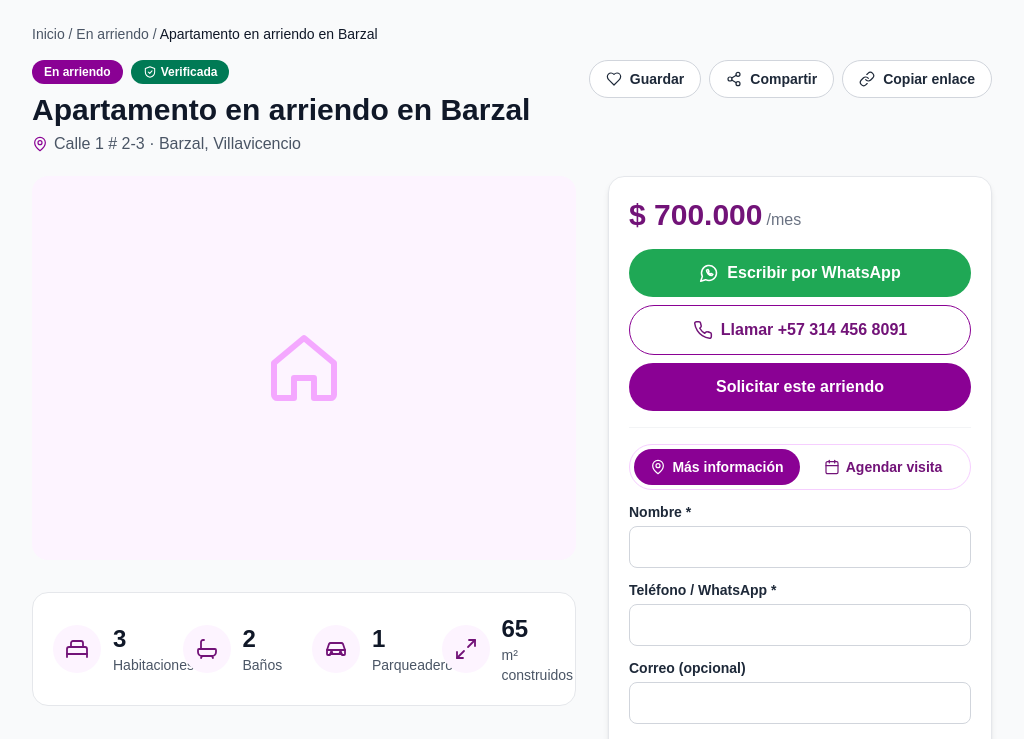
Test: ficha del inmueble › agendar una visita pide el dia
The image size is (1024, 739).
Click the tab "Agendar visita" at (883, 467), box [800,449,966,485]
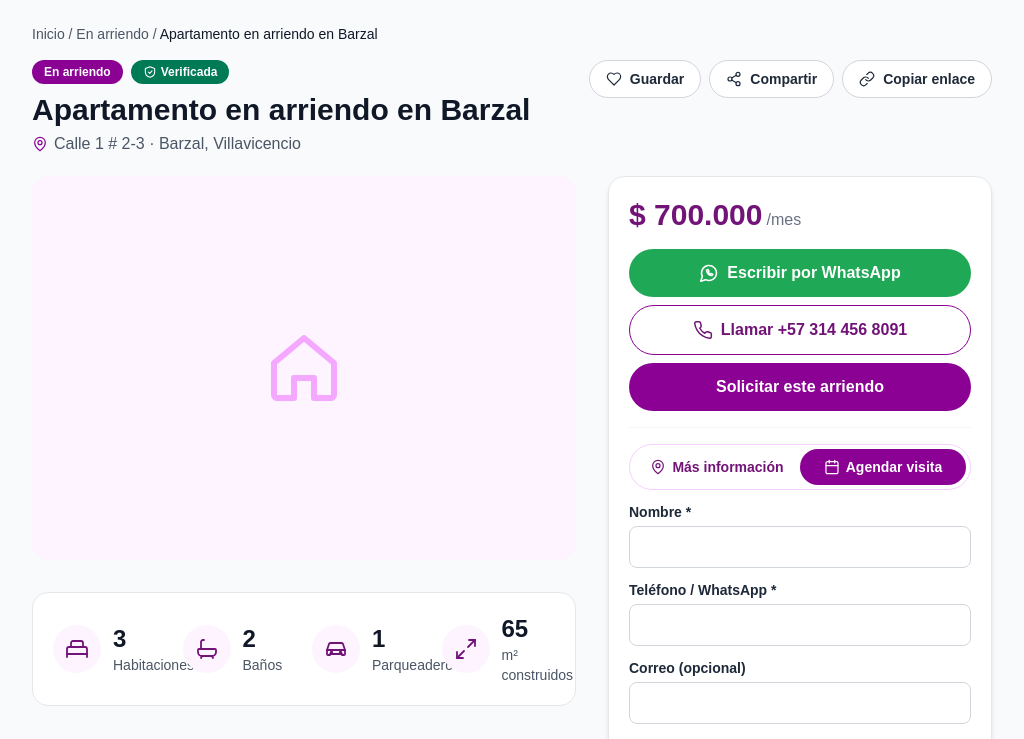
Type "Ana Gómez" into the field labelled "Nombre *" at (800, 547), box [629,526,971,568]
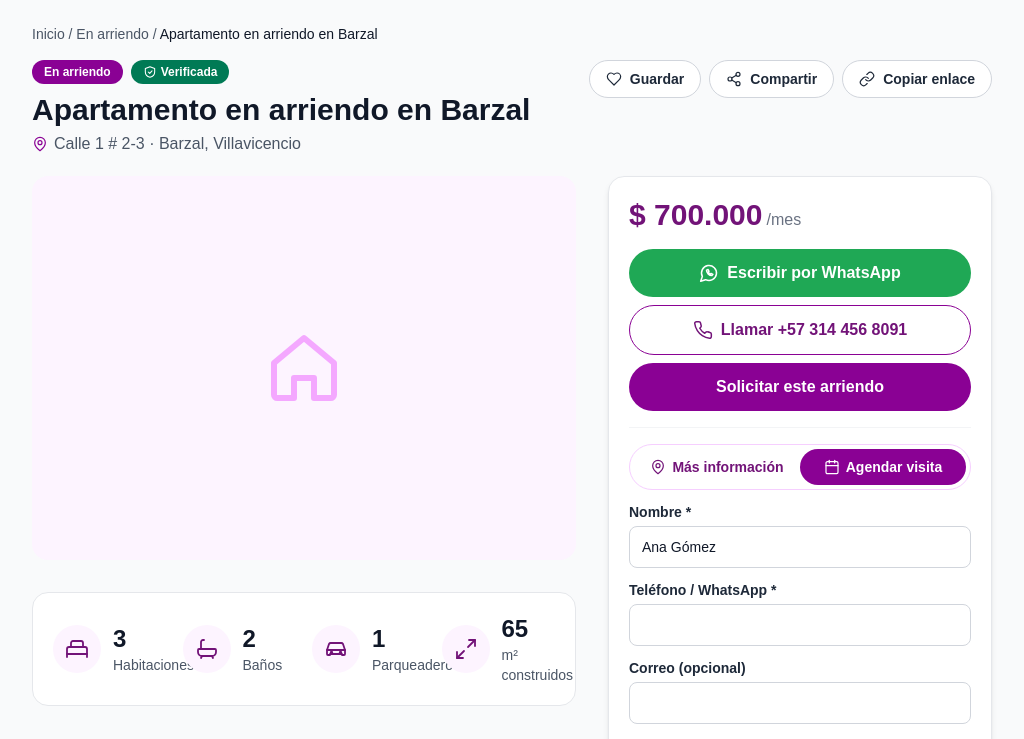
Type "3001112233" into the field labelled "Teléfono / WhatsApp *" at (800, 625), box [629,604,971,646]
(page scrolled)
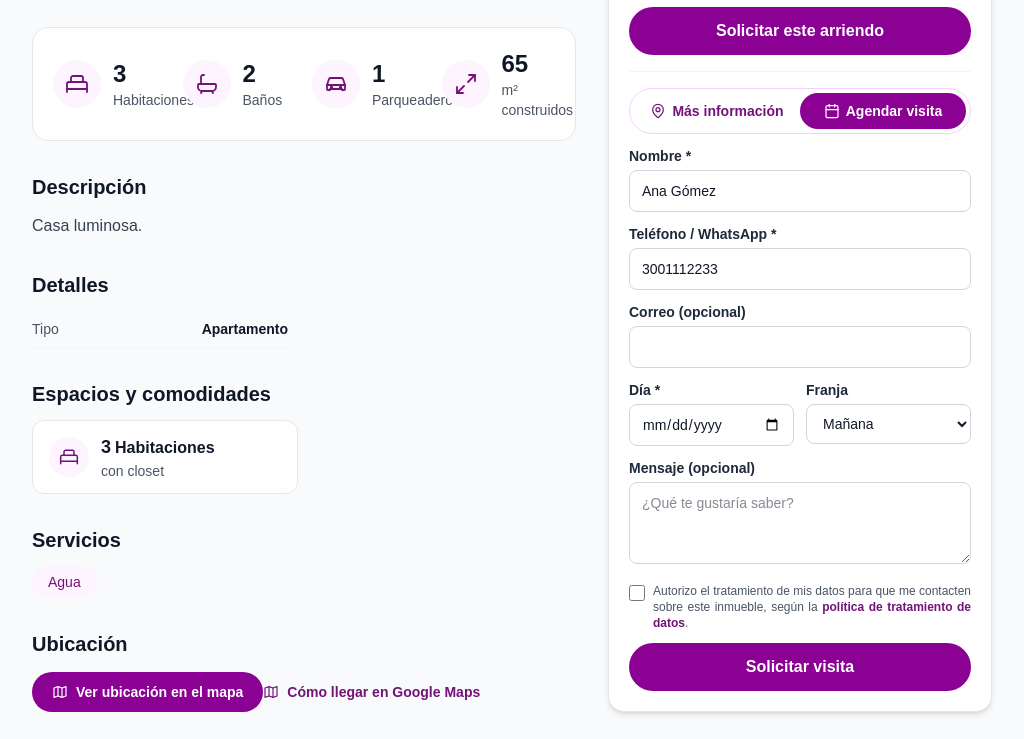
Click the checkbox at (637, 593), box [629,585,645,601]
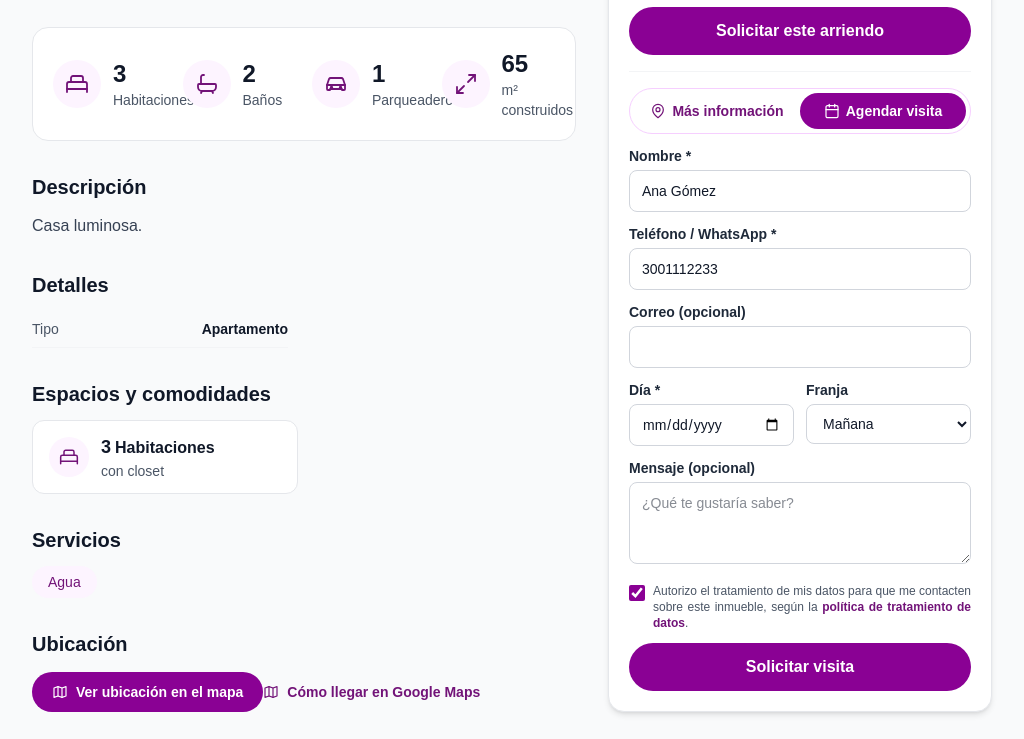
Click the button "Solicitar visita" at (800, 667), box [629,643,971,691]
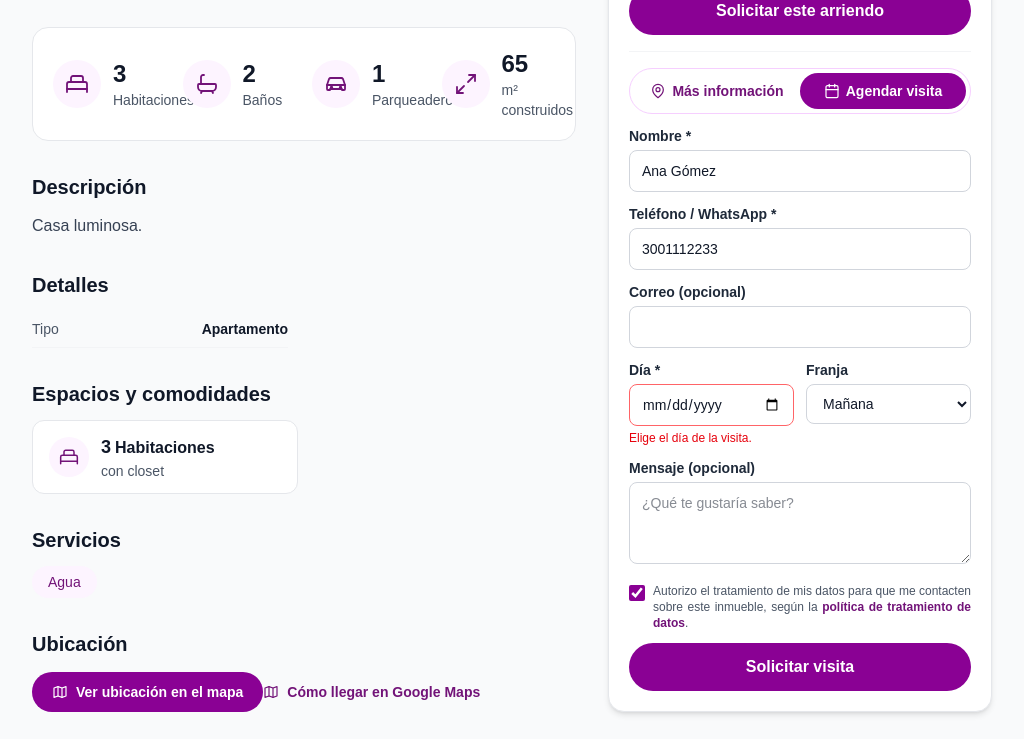
Expected: the text "Elige el día de la visita." is shown, [629,431,752,445]
